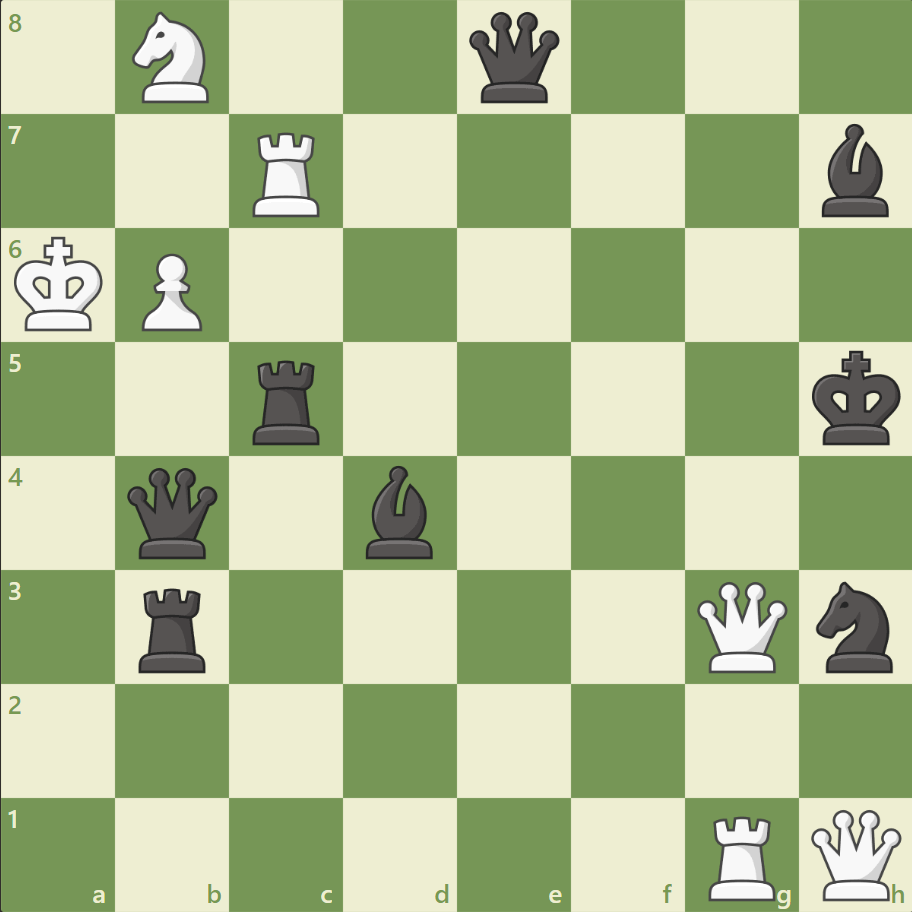K: (11, 231, 111, 339)
N: (124, 7, 222, 110)
P: (133, 246, 208, 337)
Q: (691, 576, 790, 676), (805, 804, 904, 903)
R: (700, 806, 783, 904), (246, 125, 329, 222)
b: (358, 460, 442, 563), (812, 120, 896, 222)
k: (806, 344, 906, 452)
n: (806, 575, 903, 677)
q: (464, 9, 563, 108), (124, 463, 223, 562)
r: (246, 352, 329, 449), (133, 579, 215, 676)
